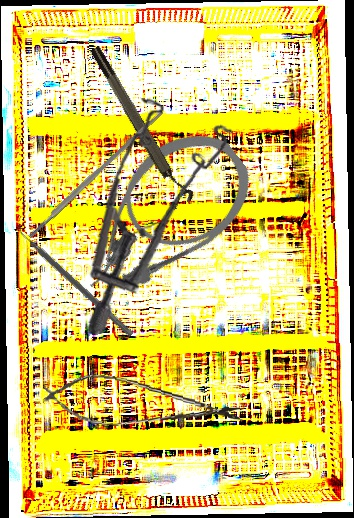Cannula: (48, 112, 270, 317)
Fixation Ring: (86, 40, 197, 210)
Micro Scissor: (40, 370, 246, 437)
Scalpel Handle: (25, 108, 166, 240)
Spatula Surgical: (13, 222, 139, 338)
Speculum: (70, 91, 247, 336)
